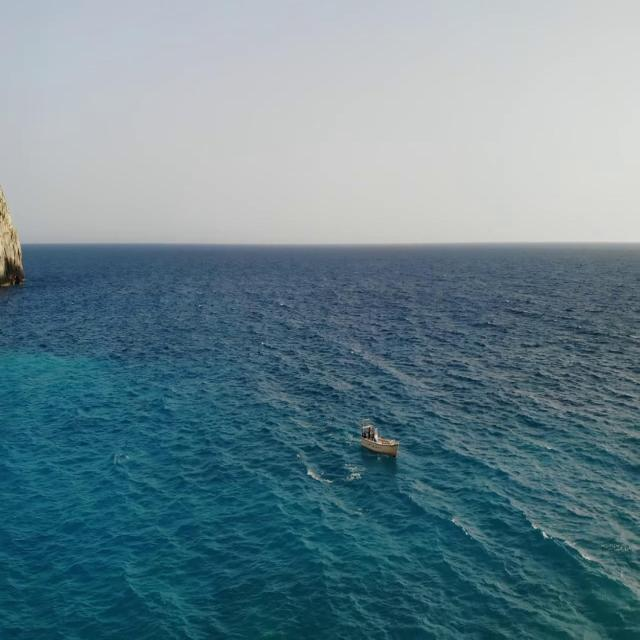boat: (359, 415, 394, 464)
